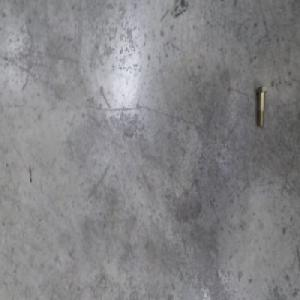Bolt: (255, 86, 266, 128)
